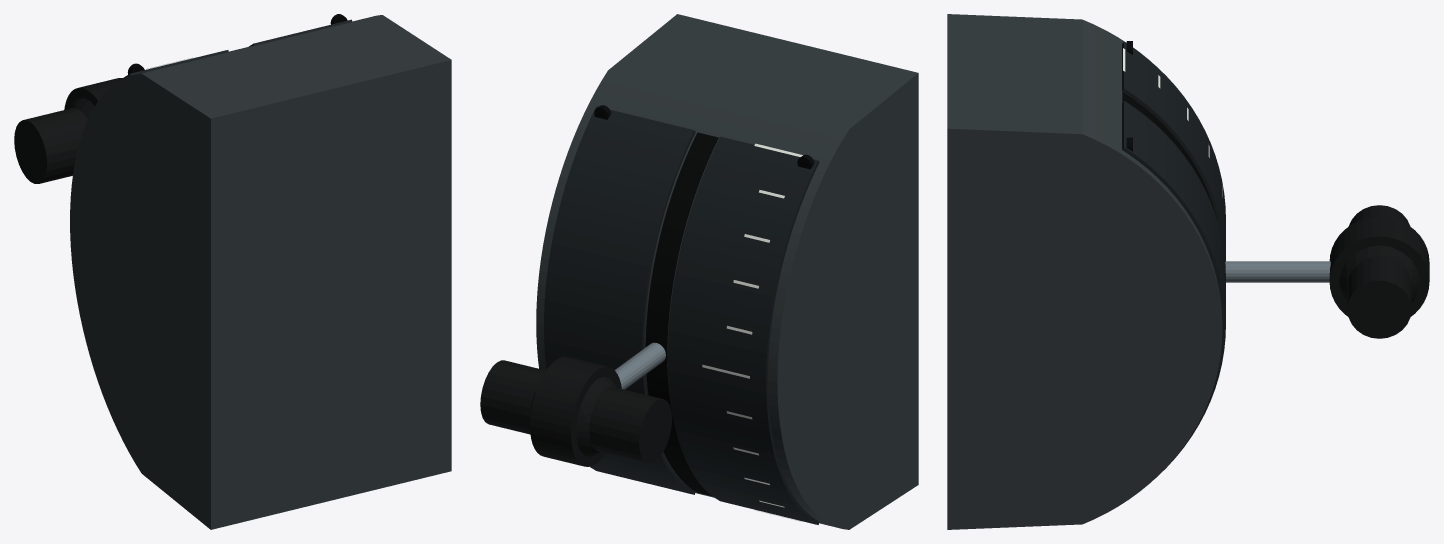
File: MFDStudio.obj
3 renders of one model, left to right at view 1: azimuth 30°, elevation 25°; view 2: azimuth 150°, elevation 25°; view 3: azimuth 270°, elevation 25°, orthographic. The views are drawn at different scales.
Visible parts, largest first — view 1: MFDStudioBody, MFDStudioActuatorGripCrossbar, MFDStudioActuatorGripDisc, MFDStudioArcFront; view 2: MFDStudioBody, MFDStudioArcFront, MFDStudioActuatorGripCrossbar, MFDStudioArcTrack, MFDStudioActuatorGripDisc, MFDStudioActuatorGripBall, MFDStudioActuator, MFDStudioControlScale; view 3: MFDStudioBody, MFDStudioArcFront, MFDStudioActuatorGripCrossbar, MFDStudioActuatorGripDisc, MFDStudioActuator, MFDStudioActuatorGripBall, MFDStudioArcTrack.
Boxes of the visible parts, x1,y1,x2,y2 form: MFDStudioBody: [70, 15, 451, 529]; MFDStudioActuatorGripCrossbar: [14, 108, 87, 183]; MFDStudioActuatorGripDisc: [64, 78, 122, 109]; MFDStudioArcFront: [121, 19, 352, 79]; MFDStudioBody: [536, 14, 918, 529]; MFDStudioArcFront: [544, 106, 819, 524]; MFDStudioActuatorGripCrossbar: [480, 360, 671, 462]; MFDStudioArcTrack: [645, 132, 718, 495]; MFDStudioActuatorGripDisc: [530, 356, 621, 466]; MFDStudioActuatorGripBall: [530, 377, 616, 456]; MFDStudioActuator: [614, 342, 665, 389]; MFDStudioControlScale: [702, 143, 802, 521]; MFDStudioBody: [947, 14, 1222, 529]; MFDStudioArcFront: [1122, 42, 1225, 477]; MFDStudioActuatorGripCrossbar: [1347, 205, 1411, 338]; MFDStudioActuatorGripDisc: [1329, 217, 1429, 316]; MFDStudioActuator: [1225, 261, 1330, 282]; MFDStudioActuatorGripBall: [1339, 245, 1419, 302]; MFDStudioArcTrack: [1122, 91, 1217, 219].
Size of the model in its own units: 0.076 by 0.124 by 0.135.
